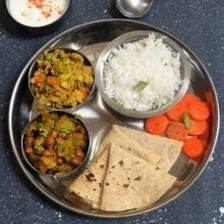roti: (66, 121, 185, 213)
